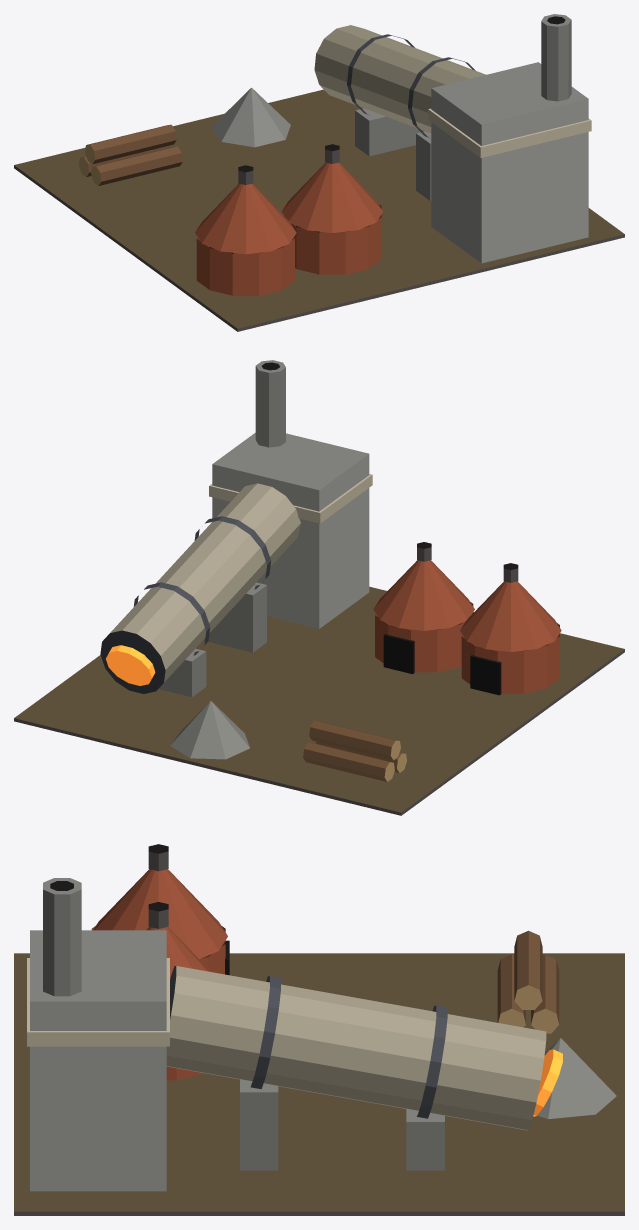
File: kiln_2.glb
3 renders of one model, top to bottom at view 1: azimuth 30°, elevation 25°; view 2: azimuth 150°, elevation 25°; view 3: azimuth 270°, elevation 25°, orthographic. The views are drawn at different scales.
Visible parts, largest first — view 1: kiln_2; view 2: kiln_2; view 3: kiln_2.
Part boxes in pixels (<box>): kiln_2: <box>14,14,624,331</box>; kiln_2: <box>14,360,624,815</box>; kiln_2: <box>14,844,624,1215</box>.
Bounding box in the file's own units: 3.8 × 2.03 × 3.8.
